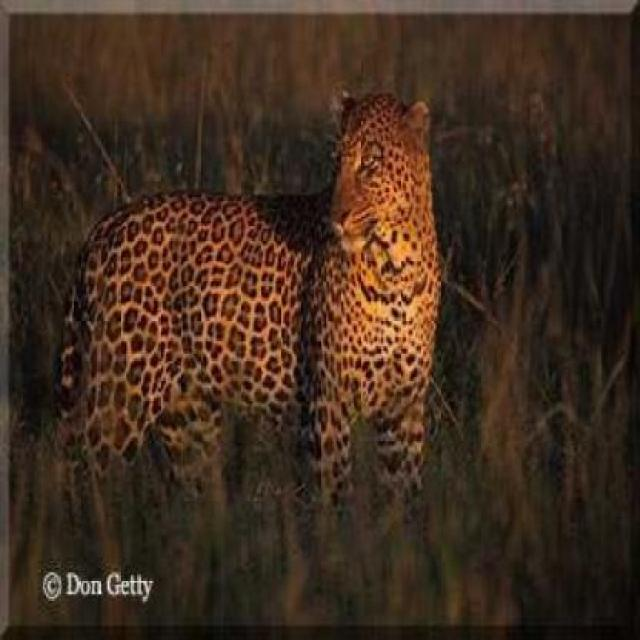Leopard: (59, 72, 499, 510)
